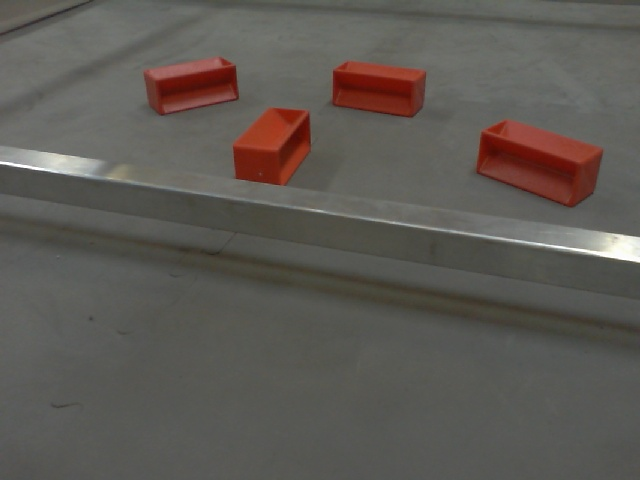RedSample: (476, 118, 604, 208), (229, 105, 313, 189), (143, 54, 238, 118), (331, 59, 428, 119)
